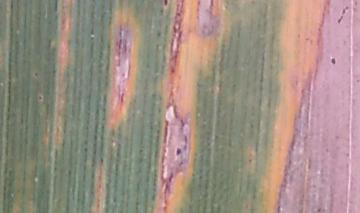tarspot: (330, 57, 337, 65), (175, 147, 182, 155), (36, 94, 43, 102), (162, 1, 168, 7), (316, 208, 323, 213), (248, 158, 253, 164), (33, 72, 38, 77)
